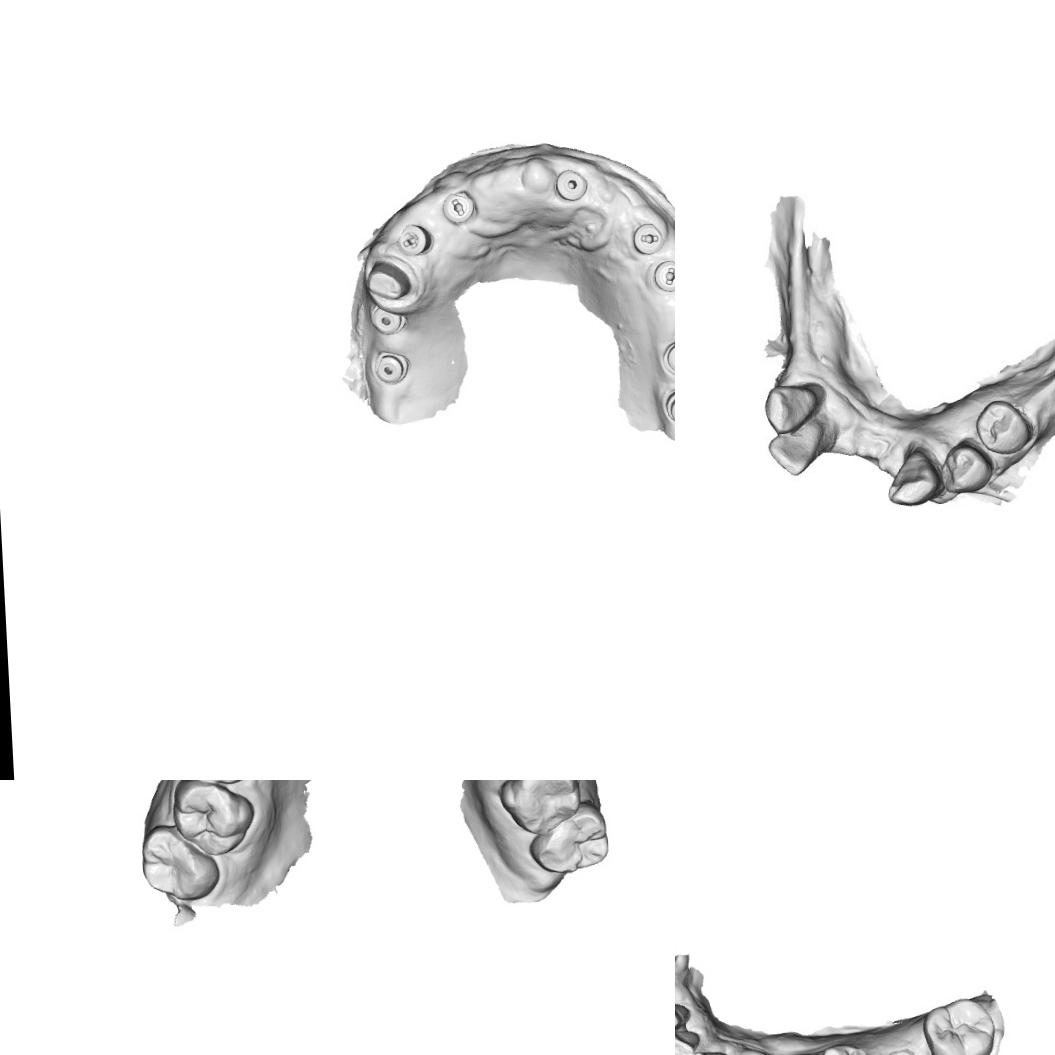canine: (765, 380, 827, 433), (886, 446, 937, 506)
crown: (362, 251, 418, 301)
implant: (549, 163, 591, 209), (367, 348, 409, 384), (366, 302, 408, 337), (658, 334, 675, 378), (661, 387, 675, 429), (882, 1042, 920, 1055)
implant_minus: (626, 217, 669, 260), (438, 186, 480, 226), (647, 257, 675, 295)
implant_plus: (393, 221, 430, 257)
incisor: (766, 419, 826, 477), (675, 1024, 705, 1055), (675, 990, 693, 1033), (681, 1044, 736, 1055)
molar: (169, 780, 258, 861), (138, 820, 222, 904), (522, 798, 612, 876), (493, 780, 584, 837), (918, 994, 1001, 1055)
premolar: (974, 397, 1038, 454), (940, 436, 999, 496), (818, 1038, 871, 1055)
